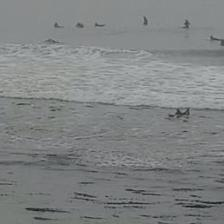surfer: (175, 108, 190, 116), (209, 35, 221, 41), (54, 22, 63, 28), (183, 19, 191, 25), (76, 22, 84, 28), (94, 23, 105, 27), (143, 16, 148, 24), (220, 40, 223, 50)
